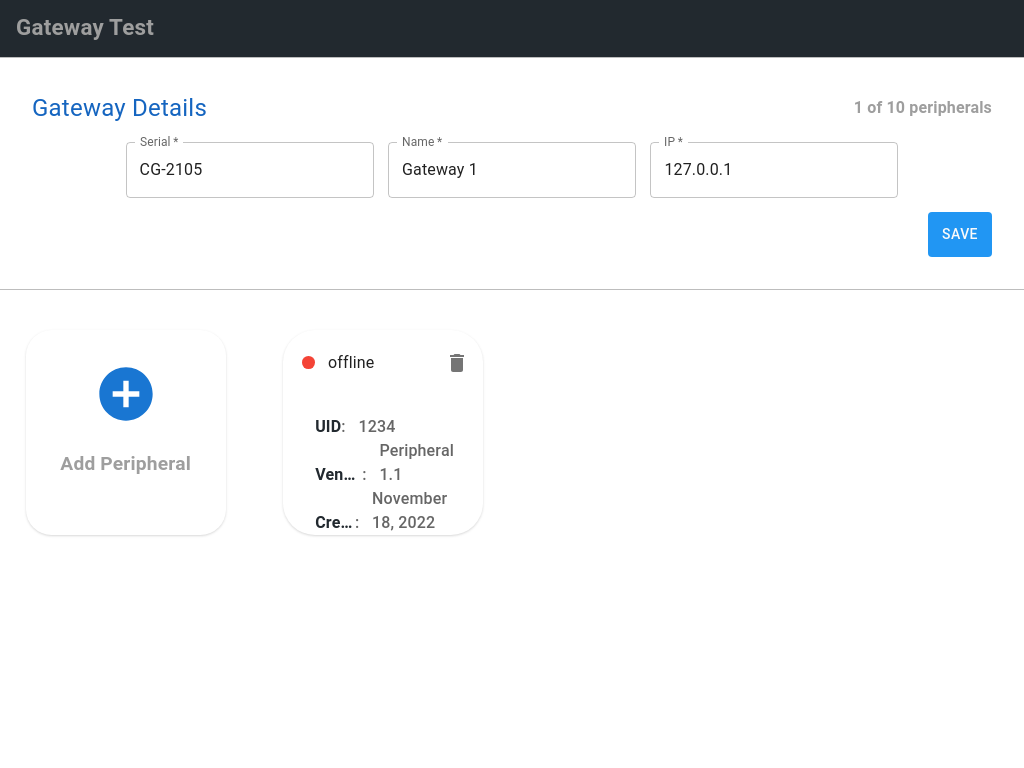
Test: <DetailsGateway /> › Add a Peripheral
The width and height of the screenshot is (1024, 768).
Click the button with test id "addCircleIcon" at (126, 433), box [26,330,226,535]
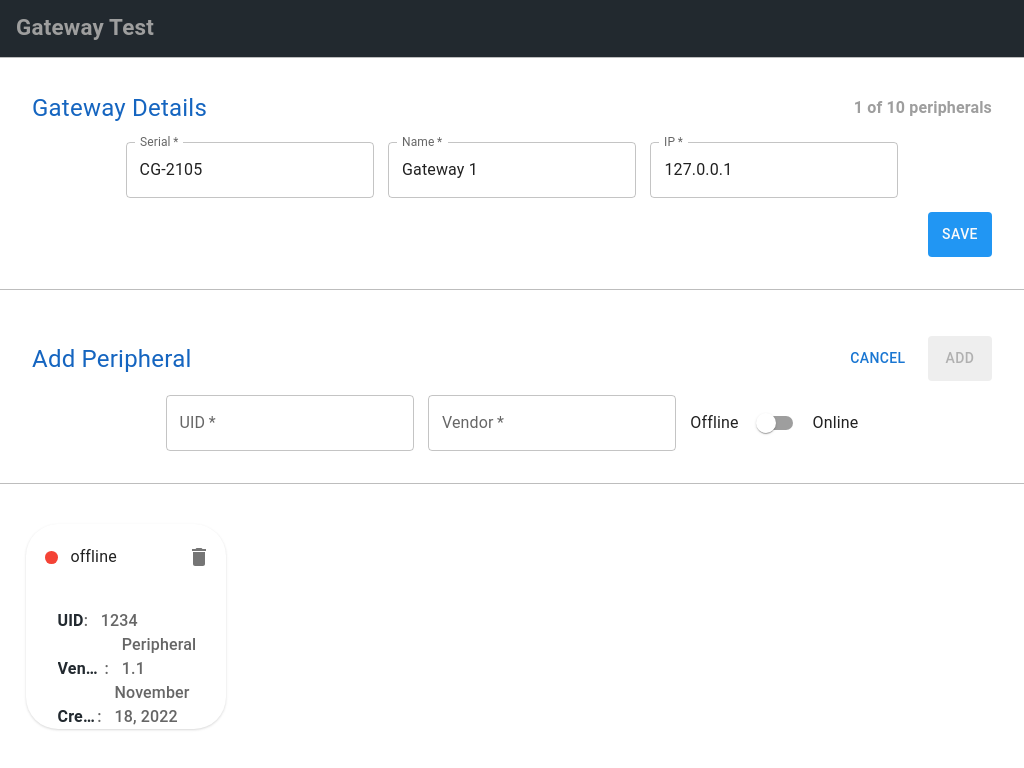
Now the icon with test id "addCircleIcon" is gone
Now the form with test id "addPeripheralForm" is shown, box [32,336,992,451]
Click Cancel button of the Add Peripheral Form
Click the button with test id "cancelBtn" at (878, 359), box [842,336,914,381]
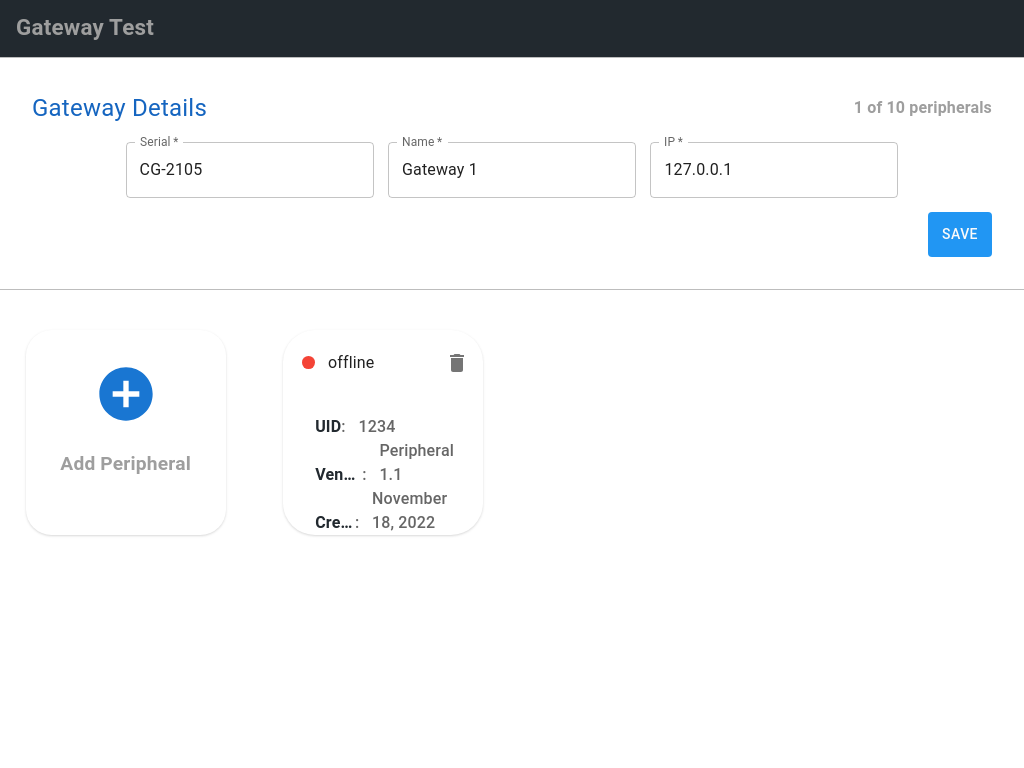
Expected: the button with test id "addCircleIcon" is shown, [26,330,226,535]
Now the form with test id "addPeripheralForm" is gone
